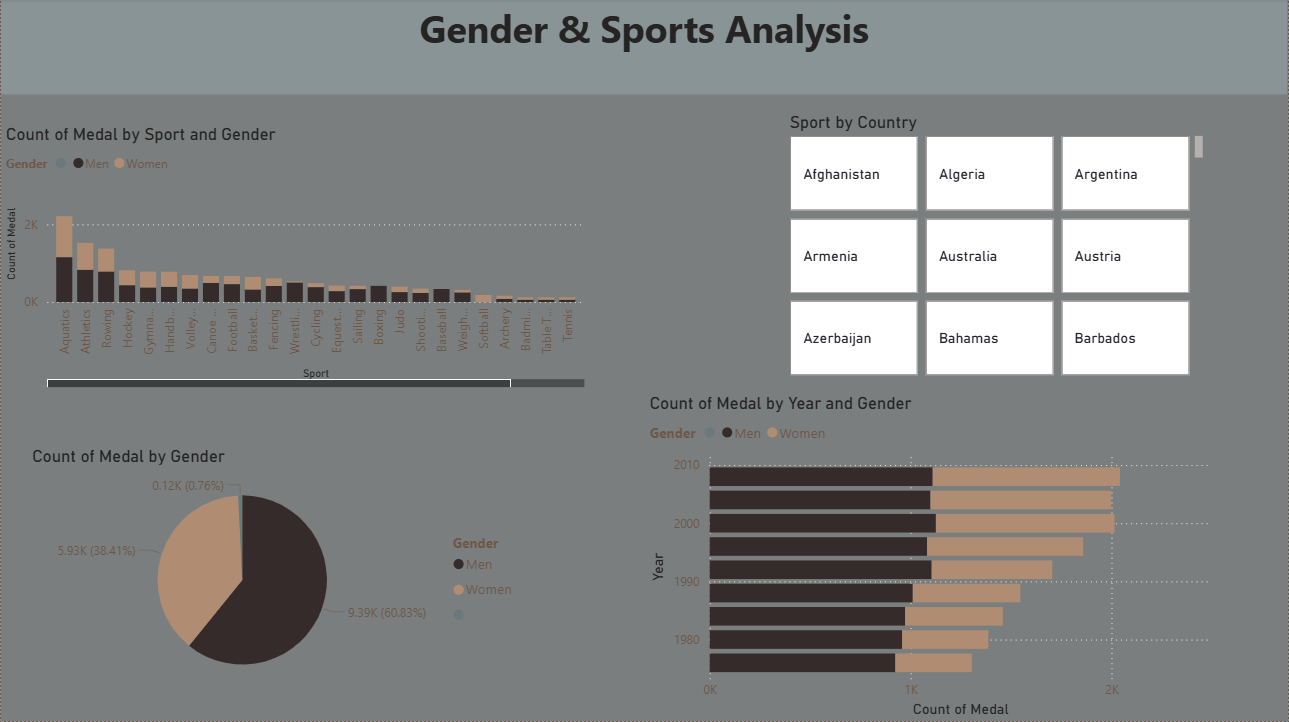

This screenshot's page, from the dashboard's own definition file:
{"tool":"powerbi","page":{"name":"Page 5","canvas":[1280,720],"ordinal":4},"visuals":[{"type":"textbox","box":[0,0,1280,95.8],"z":0},{"type":"columnChart","fields":{"Category":["summer_olympic.Sport"],"Y":["CountNonNull(summer_olympic.Medal )"],"Series":["summer_olympic.Gender"]},"box":[0,125.5,585.8,266.9],"z":1000},{"type":"pieChart","fields":{"Category":["summer_olympic.Gender"],"Y":["CountNonNull(summer_olympic.Medal )"]},"box":[26.1,445.3,496.3,248.8],"z":2000},{"type":"barChart","fields":{"Series":["summer_olympic.Gender"],"Category":["summer_olympic.Year"],"Y":["CountNonNull(summer_olympic.Medal )"]},"box":[640.6,393.1,584.7,327.2],"z":3000},{"type":"advancedSlicerVisual","title":"Sport by Country","fields":{"Values":["summer_olympic.Country"]},"box":[780,113.2,421.7,267.5],"z":4000}]}

Visuals, with their boxes in screenshot pixels (x1, y1, x2, y2), scaled from the page's 1280x720 canvas onto the 1289x722 screenshot:
textbox: pyautogui.locateOnScreen(0, 0, 1288, 96)
columnChart - summer_olympic.Sport x CountNonNull(summer_olympic.Medal ): pyautogui.locateOnScreen(0, 126, 590, 393)
pieChart - summer_olympic.Gender x CountNonNull(summer_olympic.Medal ): pyautogui.locateOnScreen(26, 447, 526, 696)
barChart - summer_olympic.Gender x summer_olympic.Year: pyautogui.locateOnScreen(645, 394, 1234, 721)
"Sport by Country" advancedSlicerVisual: pyautogui.locateOnScreen(785, 114, 1210, 382)
